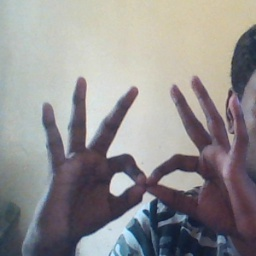B: (79, 111, 225, 225)
